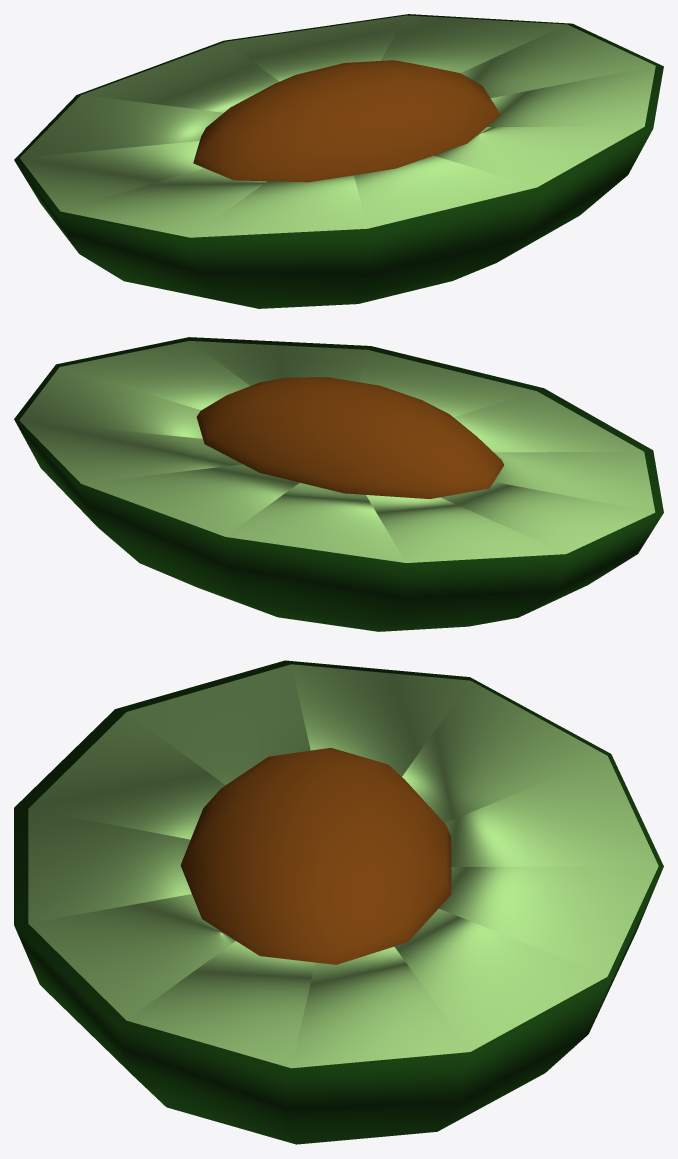
File: Avacado_2.fbx
The picture shows the model from 3 angles, top to bottom: view 1: azimuth 30°, elevation 25°; view 2: azimuth 150°, elevation 25°; view 3: azimuth 270°, elevation 25°; orthographic projection. The views are drawn at different scales.
Parts seen in each view (by area): view 1: inside, Skin, pit; view 2: inside, Skin, pit; view 3: inside, Skin, pit.
Boxes of the visible parts, x1,y1,x2,y2 form: inside: [20, 15, 655, 237]; Skin: [14, 14, 663, 308]; pit: [193, 60, 500, 182]; inside: [19, 341, 655, 562]; Skin: [14, 337, 663, 631]; pit: [196, 377, 503, 498]; inside: [28, 664, 658, 1068]; Skin: [14, 660, 663, 1144]; pit: [180, 747, 451, 964].
Size of the model in its own units: 300 by 94.79 by 200.
